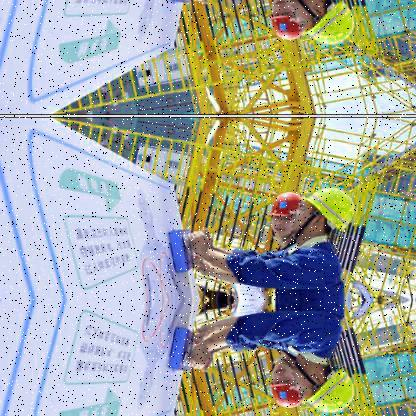Helmet: (293, 351, 358, 411), (292, 185, 353, 245), (296, 0, 357, 49), (268, 187, 300, 247), (264, 356, 300, 409), (270, 0, 302, 45)
